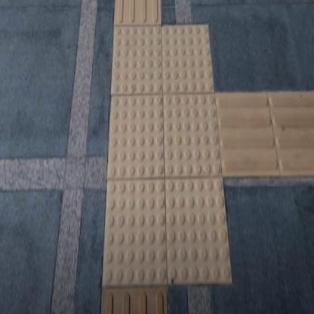Podoctatil: (88, 1, 244, 298), (224, 89, 314, 182), (100, 289, 169, 313), (115, 0, 162, 26)
